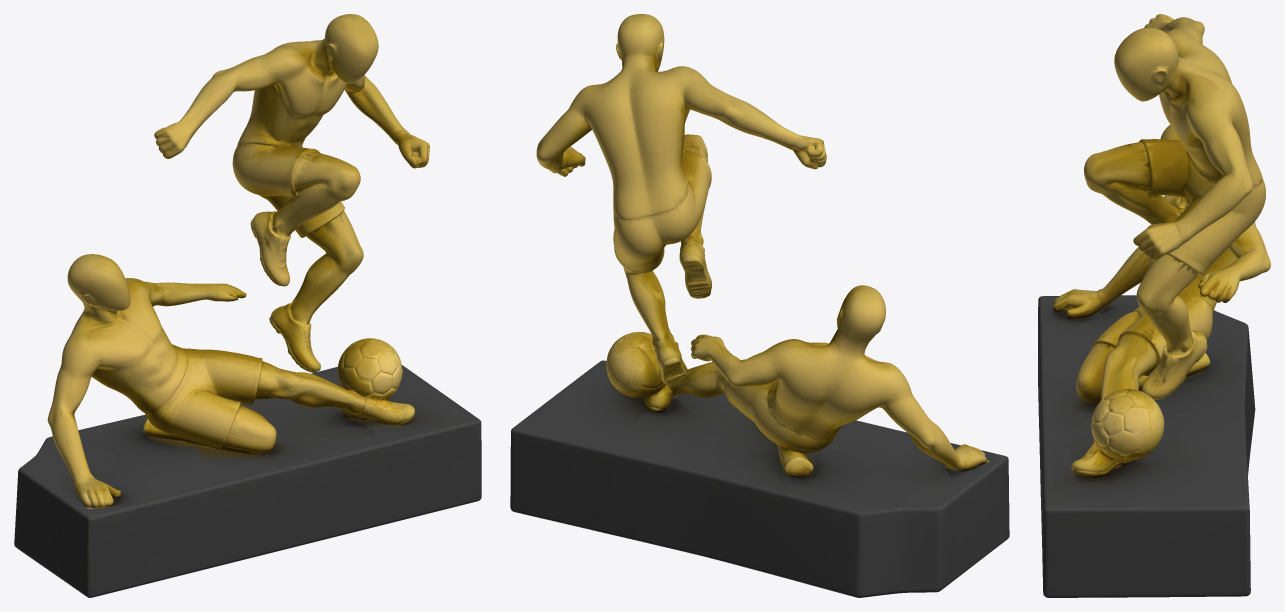
File: best_defence.glb
3 views of the same model, side by side, from view 1: azimuth 30°, elevation 25°; view 2: azimuth 150°, elevation 25°; view 3: azimuth 270°, elevation 25° (orthographic). The views are drawn at different scales.
Visible parts, largest first — view 1: node_0; view 2: node_0; view 3: node_0.
Part boxes in pixels (bbox=[...]): node_0: bbox=[14, 14, 481, 597]; node_0: bbox=[510, 14, 1009, 597]; node_0: bbox=[1038, 14, 1270, 597].
Bounding box in the file's own units: 0.7728 × 0.8691 × 0.3511.
Materials: 1 (1 with a texture image).
